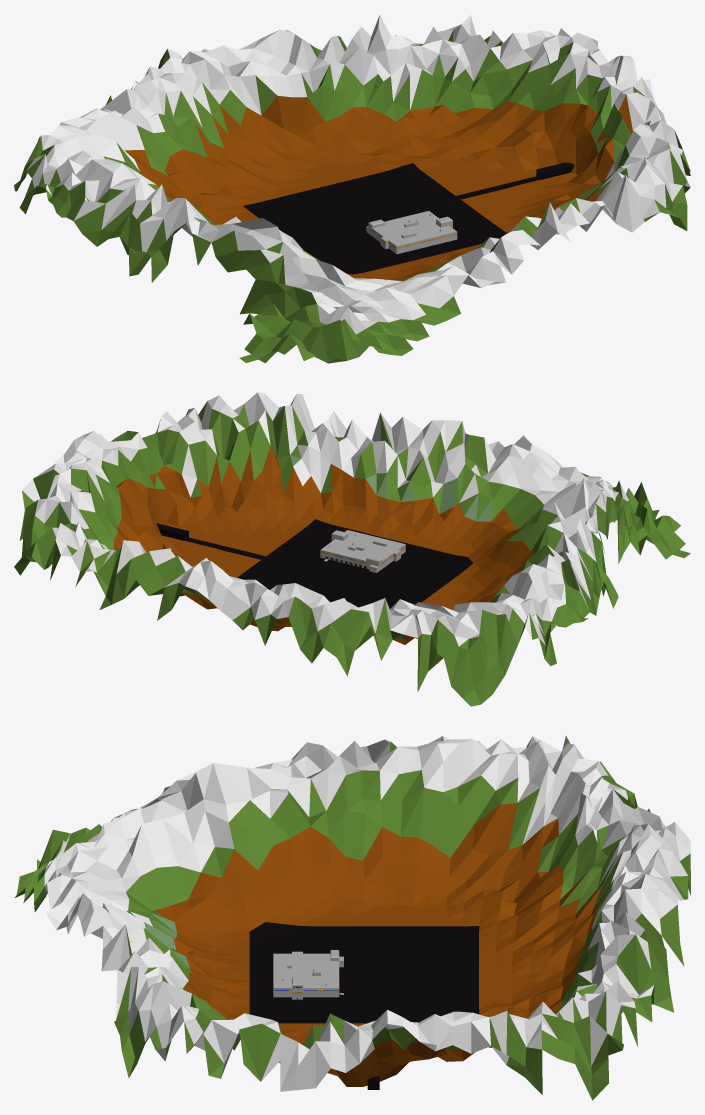
The model's file is warehousemap.glb.
3 views of the same model, one above another, from view 1: azimuth 30°, elevation 25°; view 2: azimuth 150°, elevation 25°; view 3: azimuth 270°, elevation 25° (orthographic). The views are drawn at different scales.
Parts seen in each view (by area): view 1: Plane, Text; view 2: Plane, Text; view 3: Plane, Text.
Part boxes in pixels (x1,y1,x2,y2): Plane: [14, 15, 690, 363]; Text: [366, 211, 457, 254]; Plane: [14, 392, 690, 706]; Text: [320, 530, 405, 572]; Plane: [14, 736, 690, 1100]; Text: [273, 950, 343, 1000].
Bounding box in the file's own units: 21.76 × 3.62 × 19.45.
Materials: 10 (2 with a texture image).
